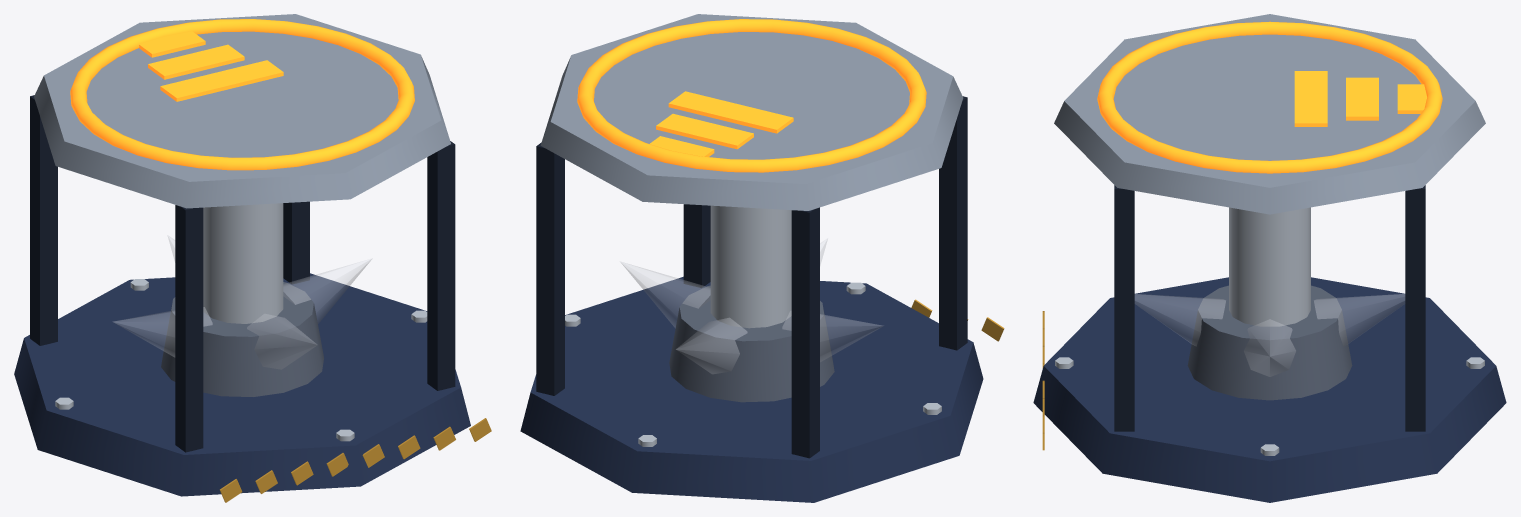
File: shared_launcher_fired.glb
3 renders of one model, left to right at view 1: azimuth 30°, elevation 25°; view 2: azimuth 150°, elevation 25°; view 3: azimuth 270°, elevation 25°, orthographic.
Parts seen in each view (by area): view 1: launcher_base, launcher_pad, launcher_ring, launcher_cylinder, launcher_piston, launcher_guide1, launcher_guide0, launcher_guide2, launcher_hazard, launcher_steam1, launcher_chevron0, launcher_steam0 (+5 smaller); view 2: launcher_base, launcher_pad, launcher_ring, launcher_cylinder, launcher_piston, launcher_guide2, launcher_guide3, launcher_guide1, launcher_steam3, launcher_chevron0, launcher_steam0, launcher_guide0 (+4 smaller); view 3: launcher_base, launcher_pad, launcher_cylinder, launcher_ring, launcher_piston, launcher_guide0, launcher_guide3, launcher_steam1, launcher_steam3, launcher_steam0, launcher_chevron0, launcher_chevron1 (+2 smaller).
Part boxes in pixels (x1,y1,x2,y2): launcher_base: (14, 273, 470, 496); launcher_pad: (34, 14, 450, 208); launcher_ring: (70, 19, 414, 170); launcher_cylinder: (161, 282, 323, 396); launcher_piston: (203, 203, 283, 323); launcher_guide1: (175, 205, 203, 452); launcher_guide0: (427, 141, 455, 390); launcher_guide2: (30, 95, 57, 345); launcher_hazard: (220, 418, 491, 502); launcher_steam1: (247, 314, 317, 369); launcher_chevron0: (160, 60, 283, 101); launcher_steam0: (283, 258, 372, 323); launcher_base: (520, 276, 983, 502); launcher_pad: (540, 14, 963, 210); launcher_ring: (577, 19, 926, 172); launcher_cylinder: (669, 285, 834, 402); launcher_piston: (710, 205, 791, 328); launcher_guide2: (791, 207, 819, 458); launcher_guide3: (536, 142, 564, 395); launcher_guide1: (939, 96, 967, 350); launcher_steam3: (676, 318, 747, 373); launcher_chevron0: (668, 91, 793, 133); launcher_steam0: (620, 261, 710, 327); launcher_guide0: (683, 204, 710, 287); launcher_base: (1033, 277, 1506, 502); launcher_pad: (1054, 14, 1485, 214); launcher_cylinder: (1187, 285, 1352, 400); launcher_ring: (1097, 21, 1442, 173); launcher_piston: (1229, 207, 1310, 326); launcher_guide0: (1114, 185, 1134, 431); launcher_guide3: (1405, 185, 1425, 431); launcher_steam1: (1135, 294, 1225, 346); launcher_steam3: (1314, 294, 1404, 346); launcher_steam0: (1244, 319, 1295, 376); launcher_chevron0: (1294, 71, 1327, 126); launcher_chevron1: (1346, 77, 1378, 120).
Bounding box in the file's own units: 2.3 × 1.67 × 2.3.
